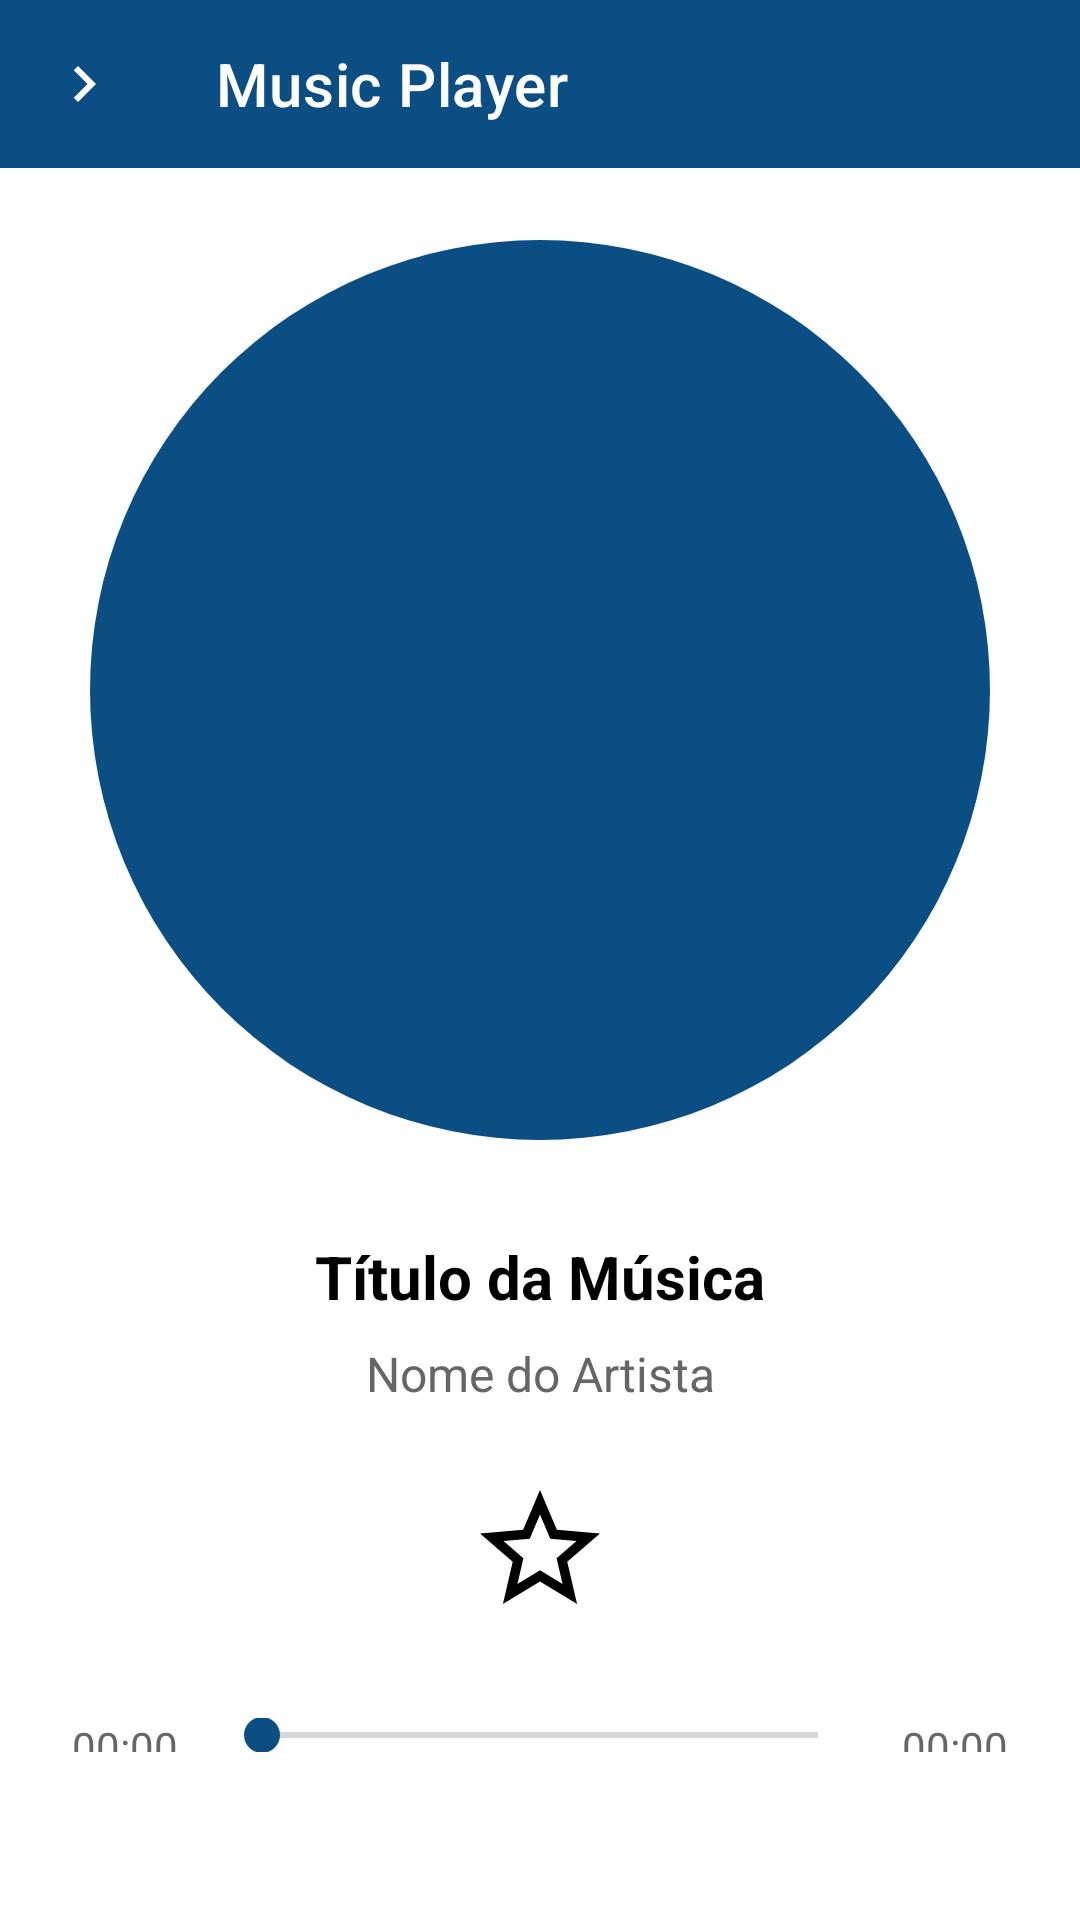

Icon bounding boxes for this 1080*1920 phone screenshot, format (x1, y1, x2, y2):
Favorito: (480, 1490, 600, 1604)
